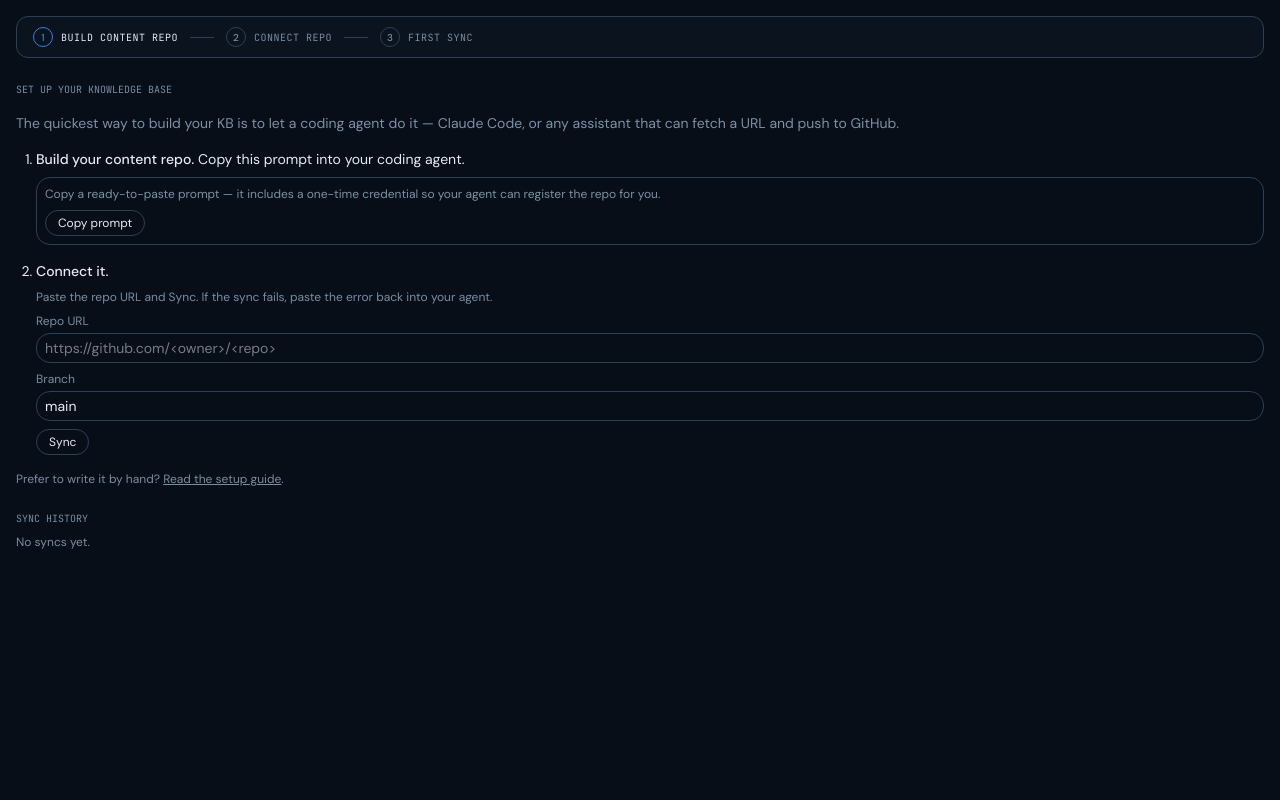
Test case: ContentTab › submits a sync POST when the form is filled in
Step 1. Type "https://github.com/alex/queritae-content" into the field labelled "Repo URL" → (650, 348), box [36,333,1264,363]
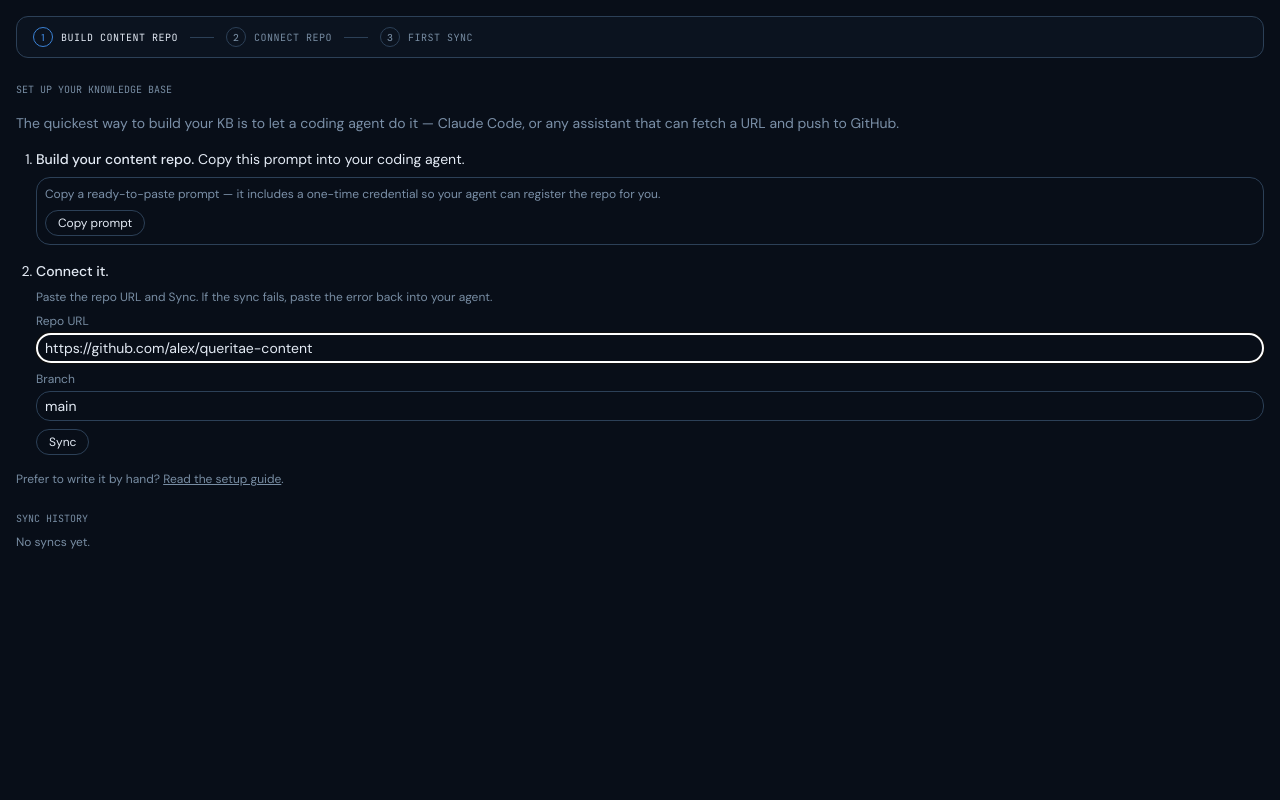
Step 2. Click the button "Sync" → (63, 442), box [36,429,89,455]
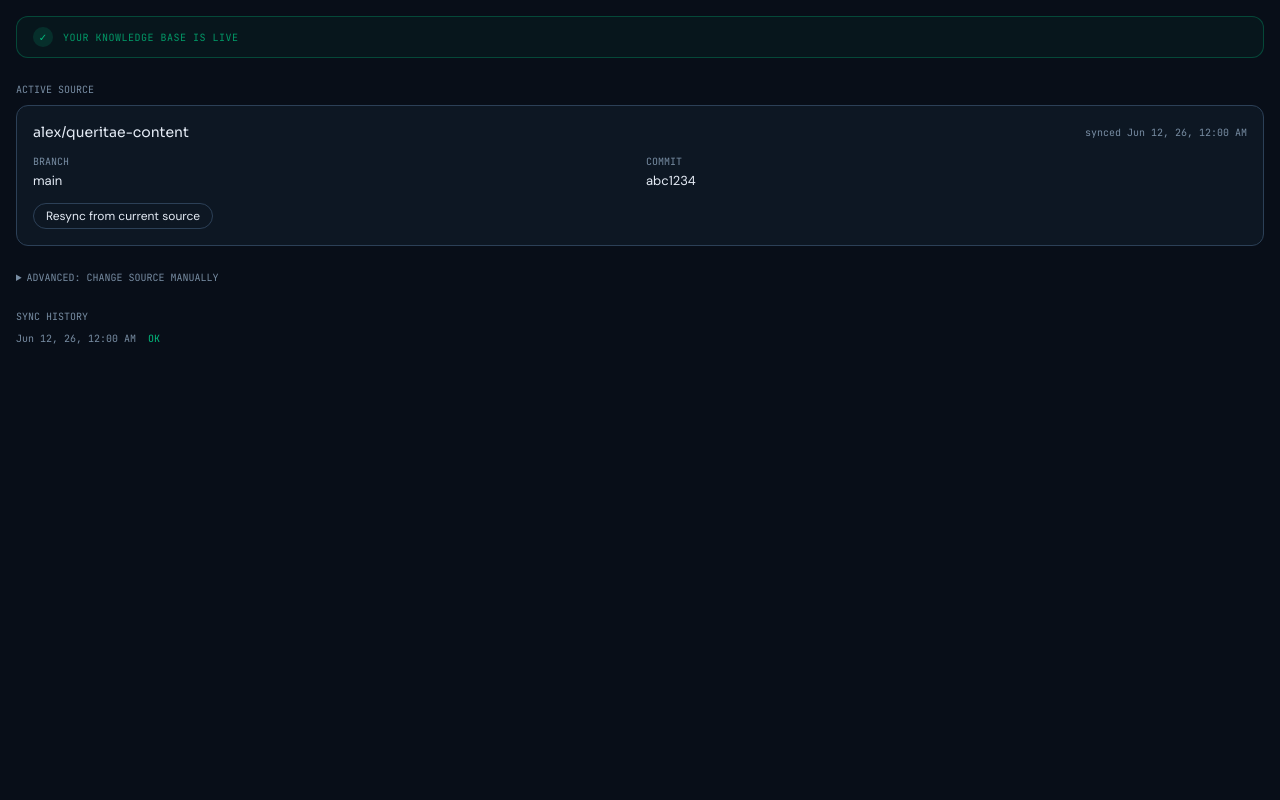
Expected: the text "Active source" is shown, [16,83,94,96]
